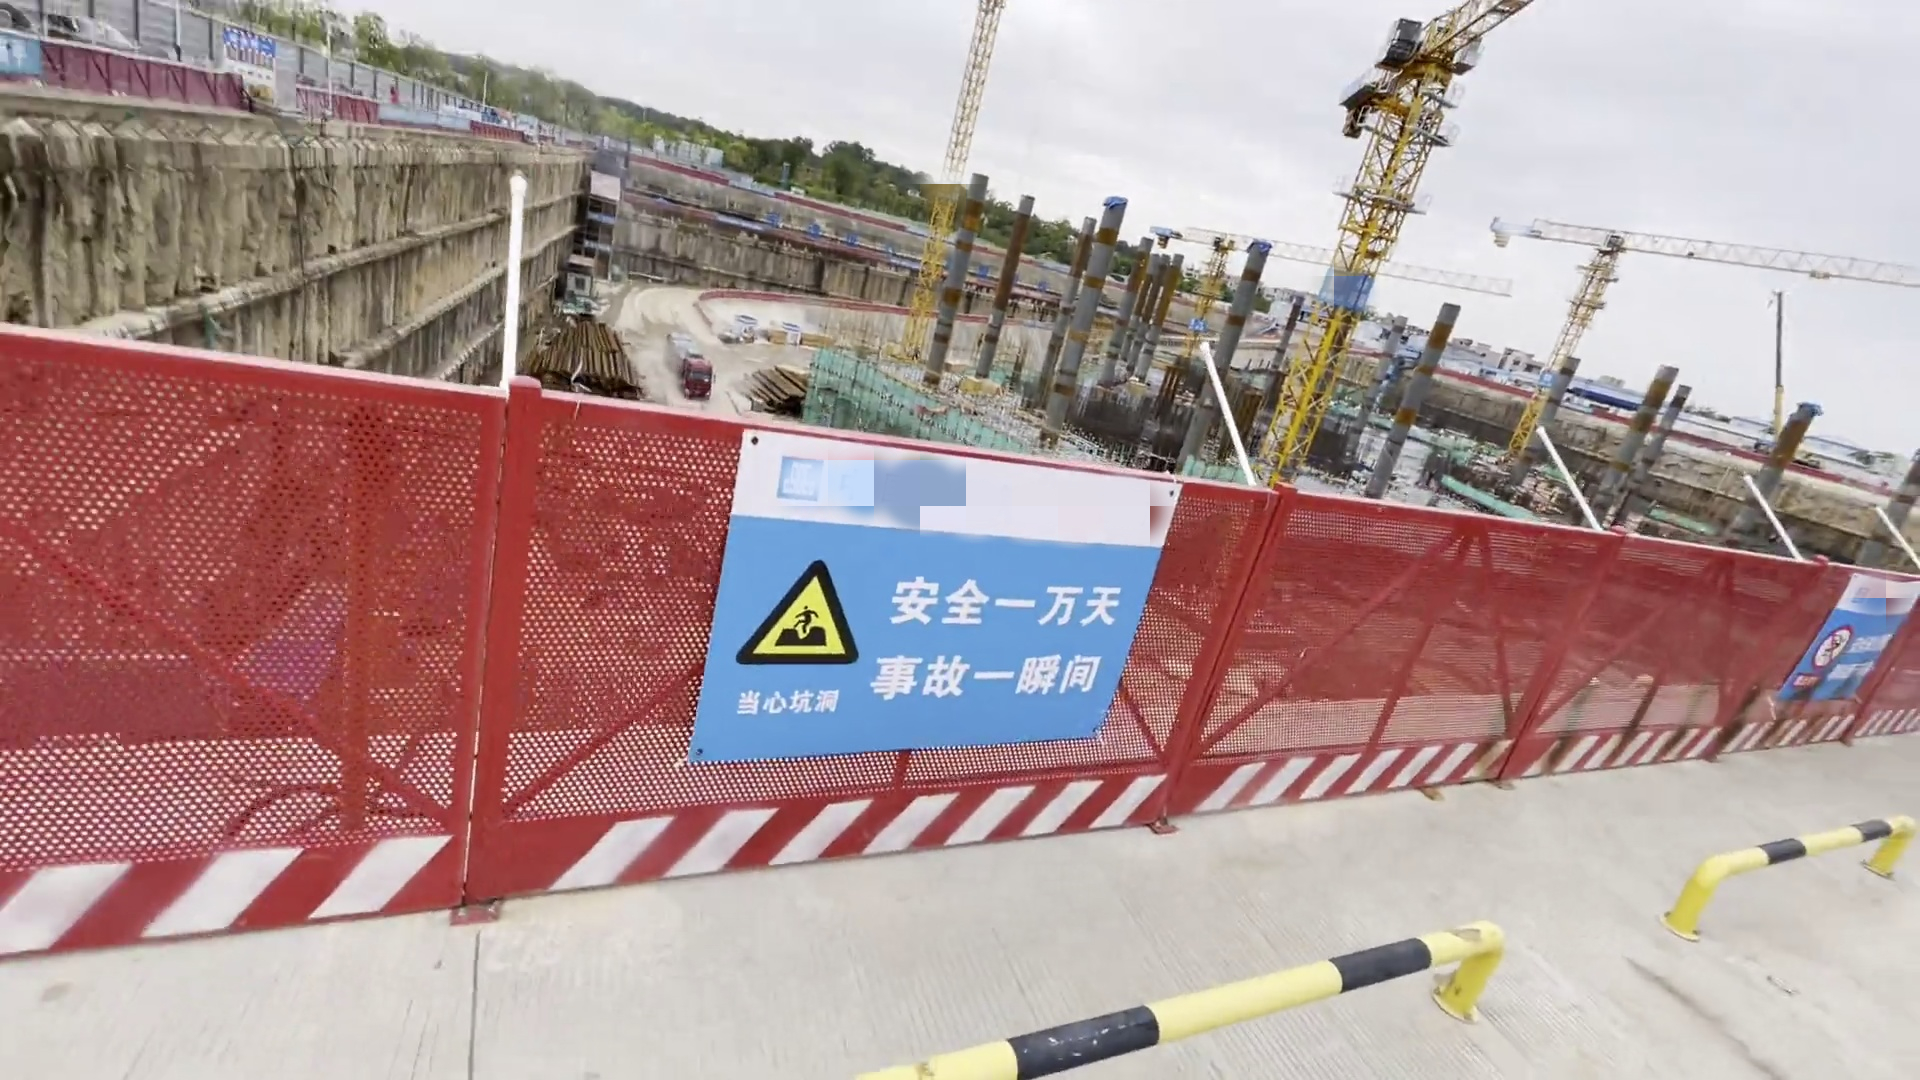fence: (1, 417, 1522, 845), (1, 53, 376, 132)
slogan: (725, 454, 1204, 762), (1776, 587, 1920, 713), (760, 210, 899, 256), (1342, 272, 1374, 311)
